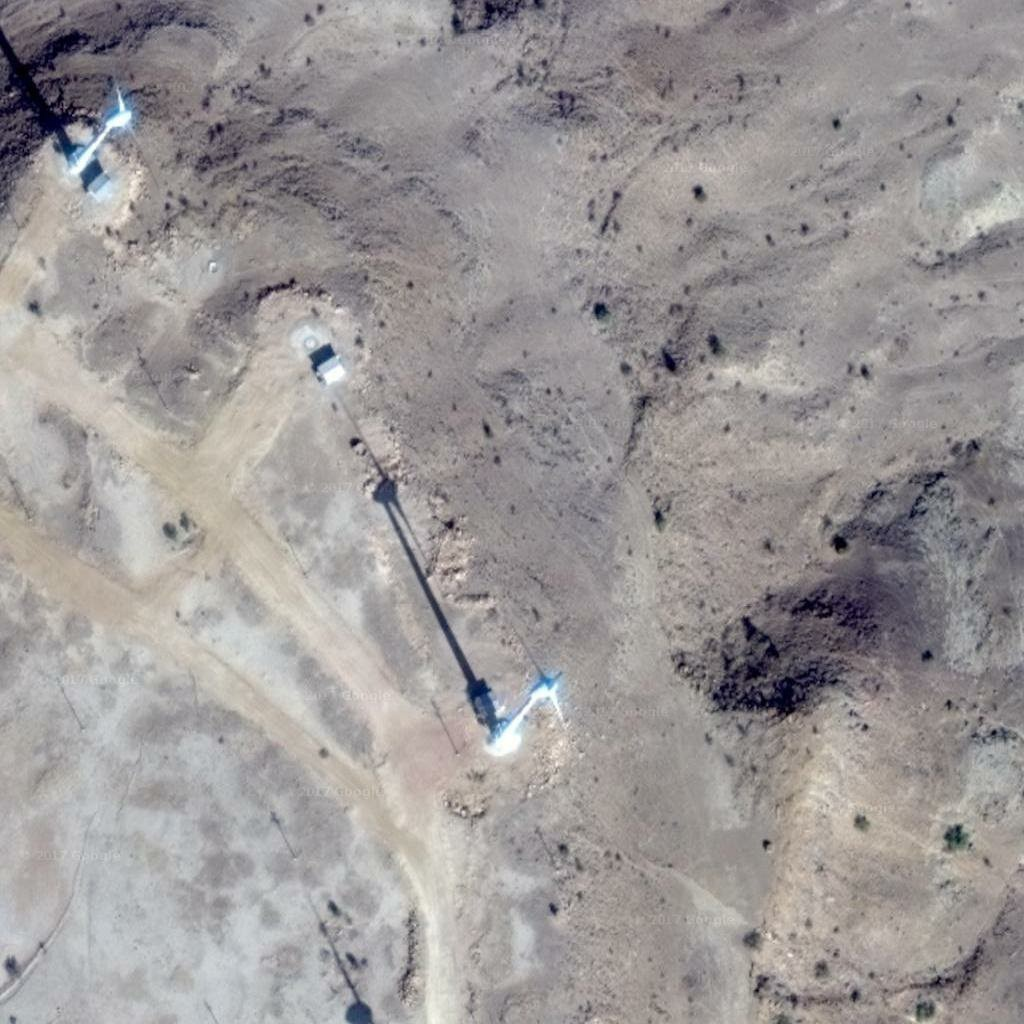Windmill: (333, 394, 499, 693)
